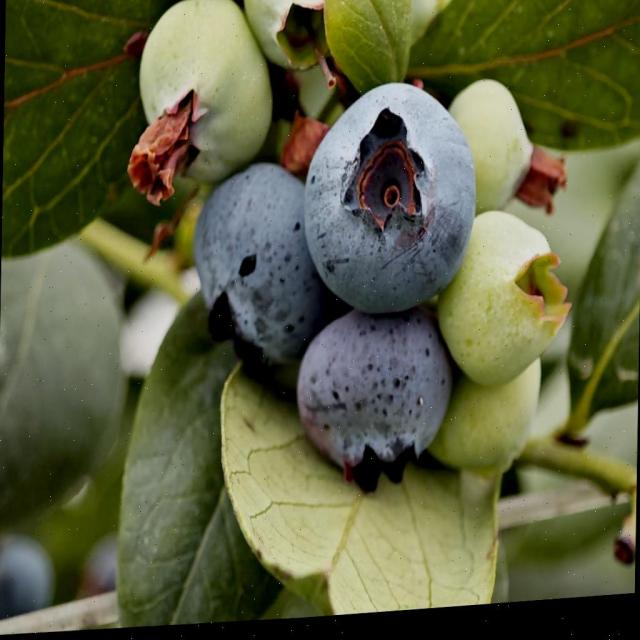RipeBlueBerry: (299, 78, 481, 330), (189, 163, 344, 384), (293, 311, 454, 491)
UnripeBlueBerry: (132, 0, 276, 197), (440, 208, 564, 401)
